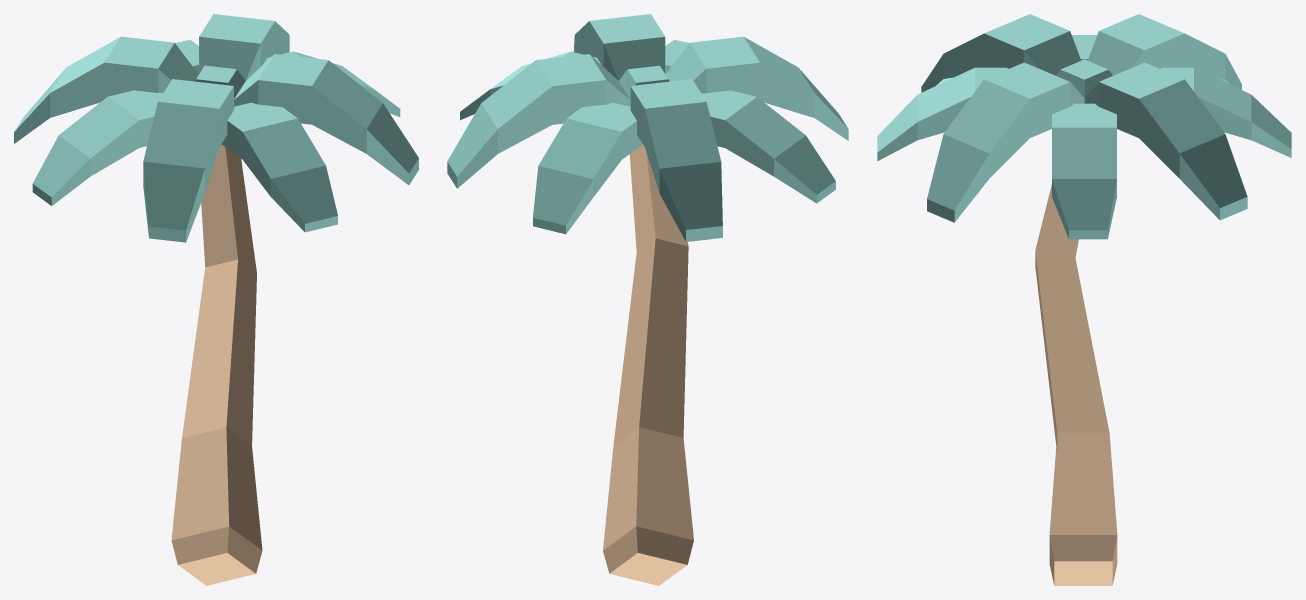
File: palmDetailed_large.glb
3 views of the same model, side by side, from view 1: azimuth 30°, elevation 25°; view 2: azimuth 150°, elevation 25°; view 3: azimuth 270°, elevation 25° (orthographic).
Visible parts, largest first — view 1: Group 152, Group 150; view 2: Group 152, Group 150; view 3: Group 152, Group 150.
Part boxes in pixels (x1,y1,x2,y2): Group 152: (14, 14, 418, 242); Group 150: (171, 144, 262, 585); Group 152: (447, 14, 848, 241); Group 150: (603, 144, 693, 585); Group 152: (877, 14, 1291, 239); Group 150: (1035, 184, 1117, 585).
Size of the model in its own units: 7.72 by 10.63 by 7.72.
